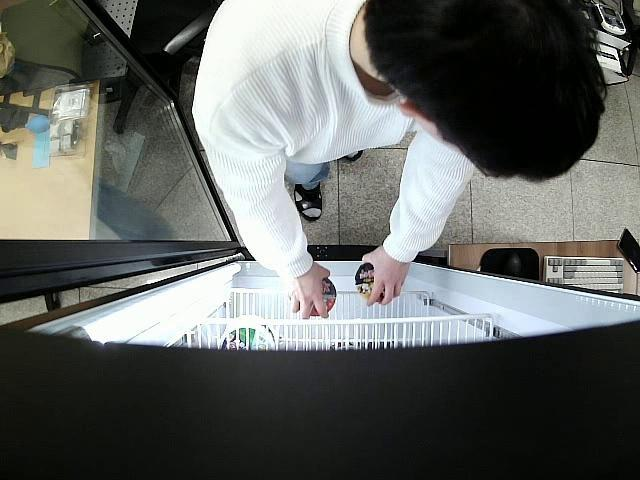08_buldak_S: (355, 264, 384, 303), (309, 277, 336, 316)
